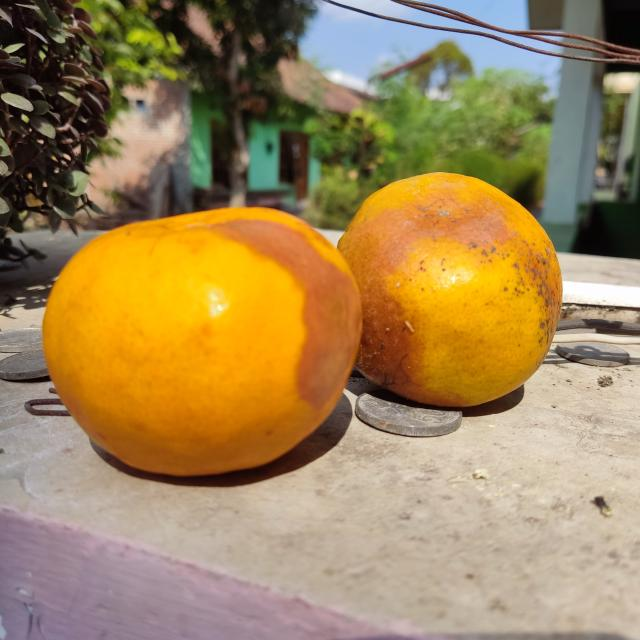orange: (41, 200, 358, 479), (335, 168, 560, 406)
